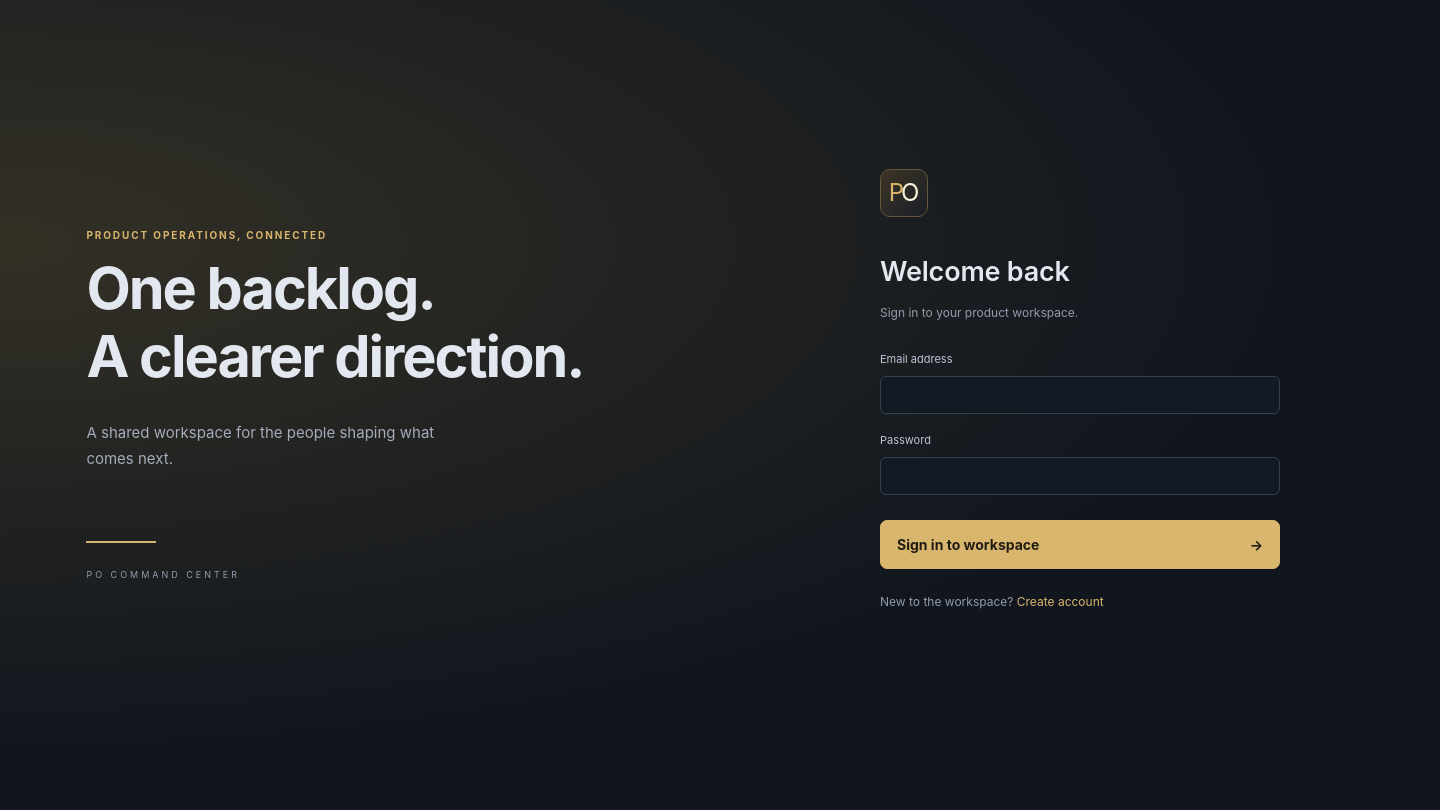
Test case: Login form › validates credentials before authentication
Type "ada@example.com" into the field labelled "Email address" at (1080, 395), box [880, 376, 1280, 414]
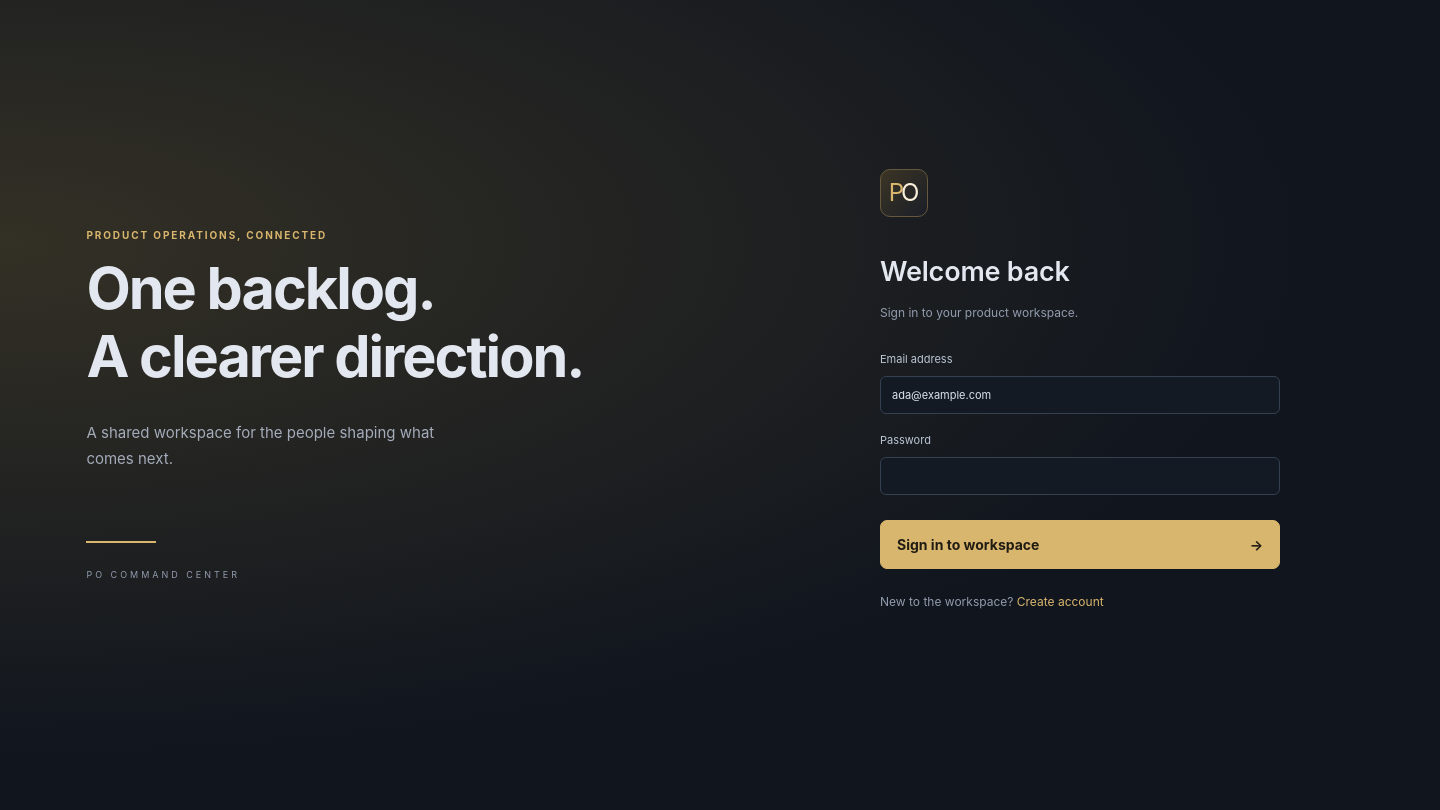
Type "short" into the password field labelled "Password" at (1080, 476), box [880, 457, 1280, 495]
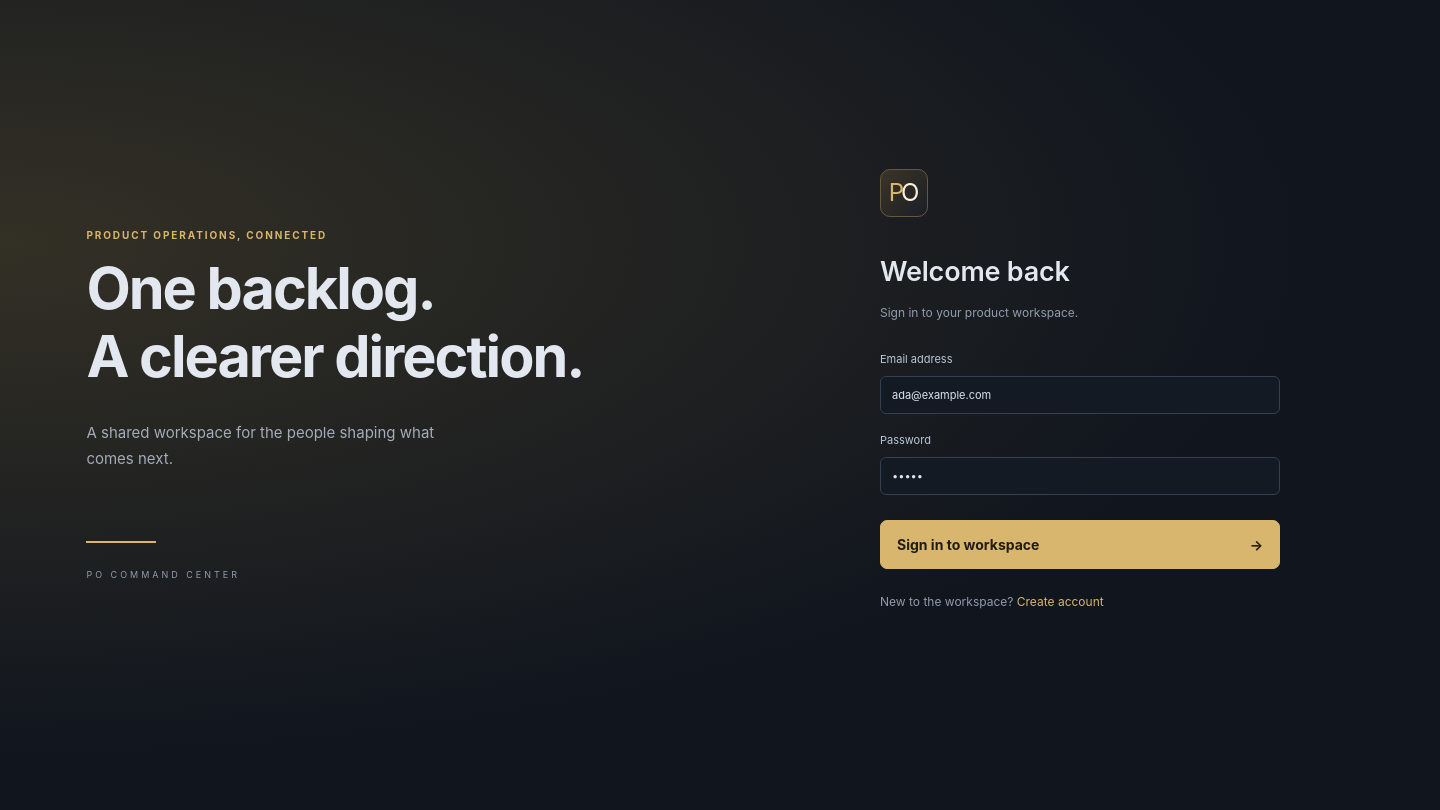
Click the button "Sign in to workspace →" at (968, 545), box [880, 520, 1280, 569]
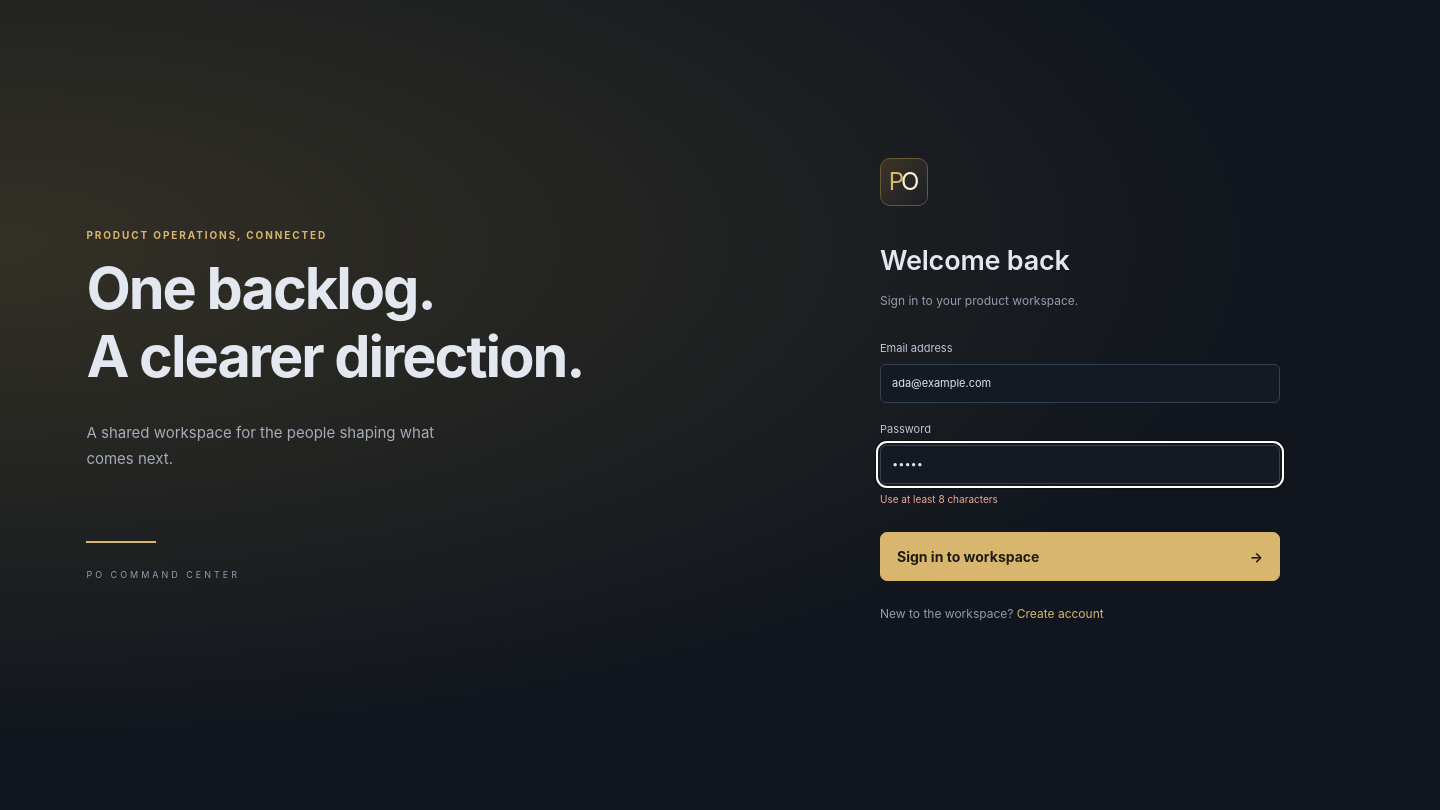
Now the message shows "at least 8", box [880, 493, 998, 505]
